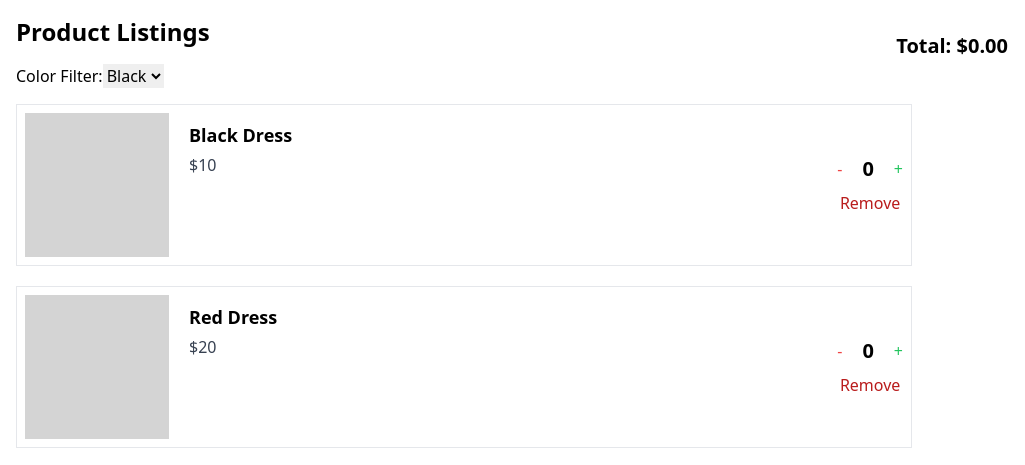
Scenario: App Component › should render and interact with add and decrement buttons
Expected: the heading "Product Listings" is shown, [16,16,210,48]
Click the button "+" in the row of "10".
click(898, 169)  # box [894,157,903,181]
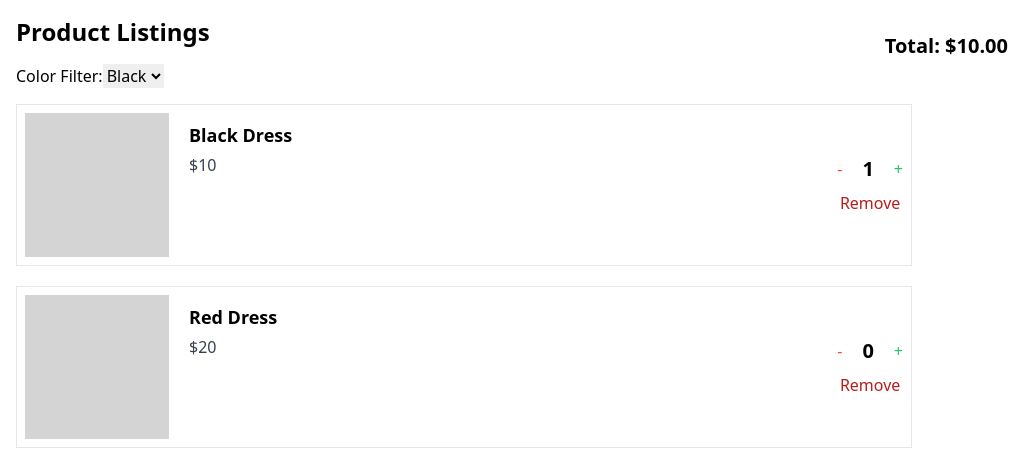
Click the 1st button "+".
click(898, 169)  # box [894,157,903,181]
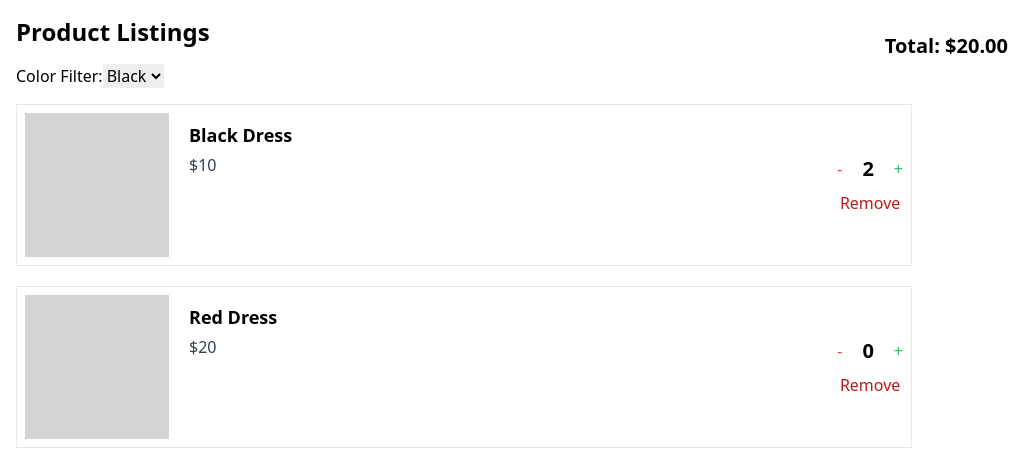
Expected: the text "2" is shown, [862,155,874,183]
Expected: the heading "Total: $20.00" is shown, [885,32,1008,60]
Click the button "-" in the row of "10".
click(840, 169)  # box [837,157,842,181]
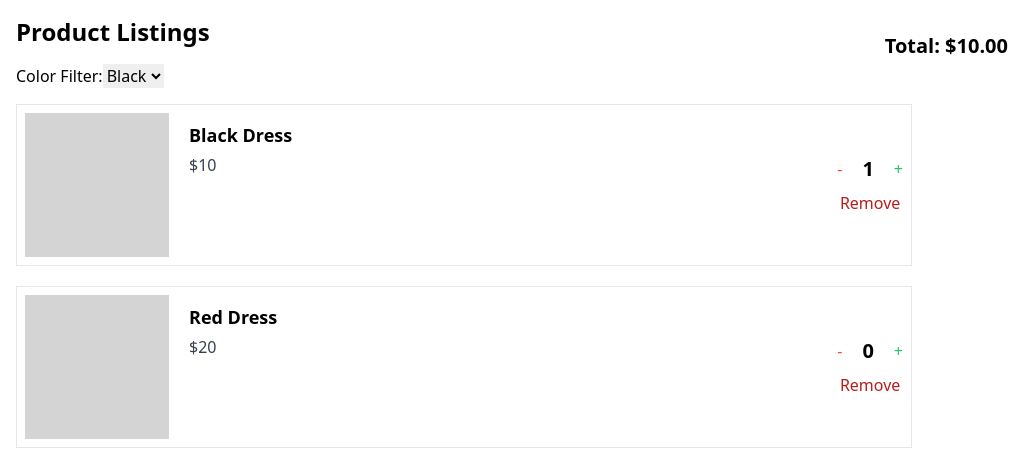
Expected: the heading "Total: $10.00" is shown, [885,32,1008,60]
Click the 1st button "-".
click(840, 169)  # box [837,157,842,181]
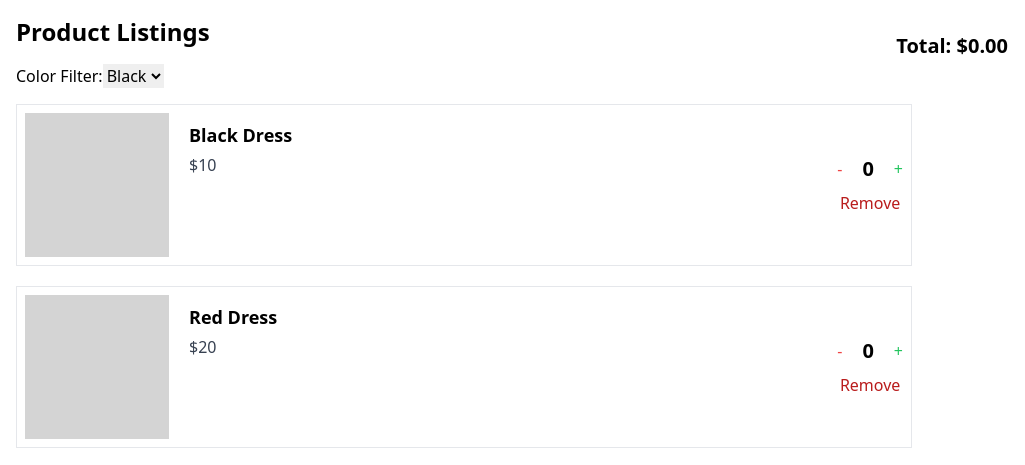
Expected: the heading "Total: $0.00" is shown, [896,32,1008,60]
